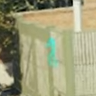hacks_2: (45, 37, 57, 66)
